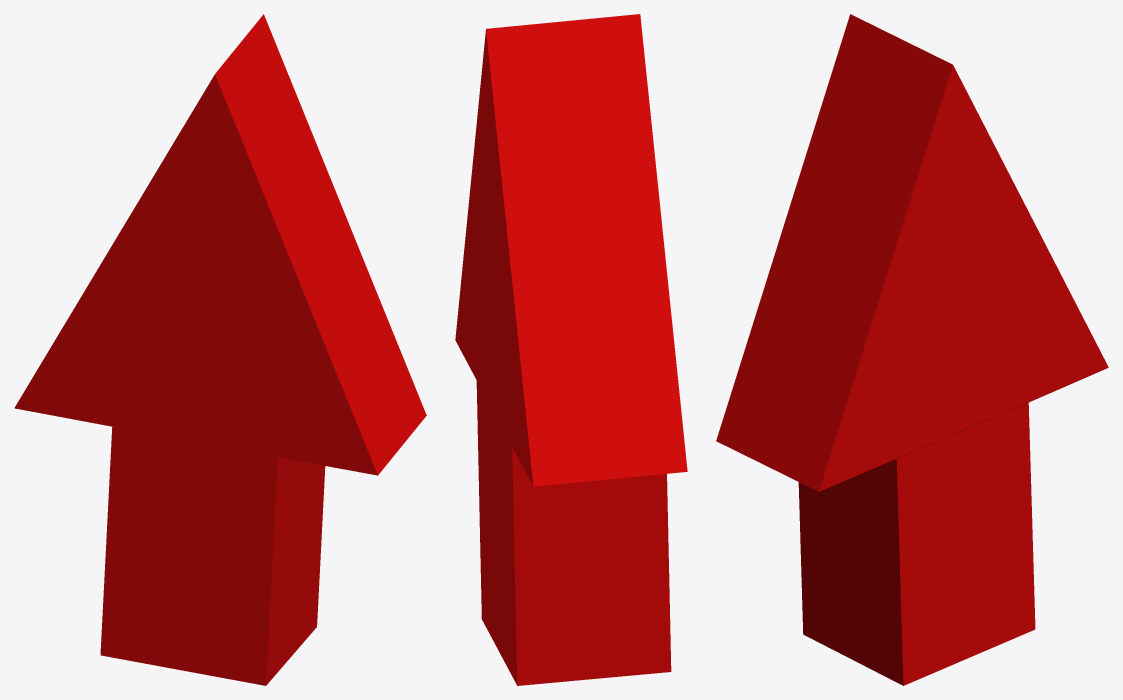
File: arrow_locator.fbx
3 renders of one model, left to right at view 1: azimuth 30°, elevation 25°; view 2: azimuth 150°, elevation 25°; view 3: azimuth 270°, elevation 25°, orthographic. The views are drawn at different scales.
Parts seen in each view (by area): view 1: pPyramid2; view 2: pPyramid2; view 3: pPyramid2.
Part boxes in pixels (x1,y1,x2,y2): pPyramid2: (14, 14, 426, 685); pPyramid2: (455, 14, 687, 685); pPyramid2: (716, 14, 1108, 685).
Size of the model in its own units: 3.78 by 6.81 by 3.99.
